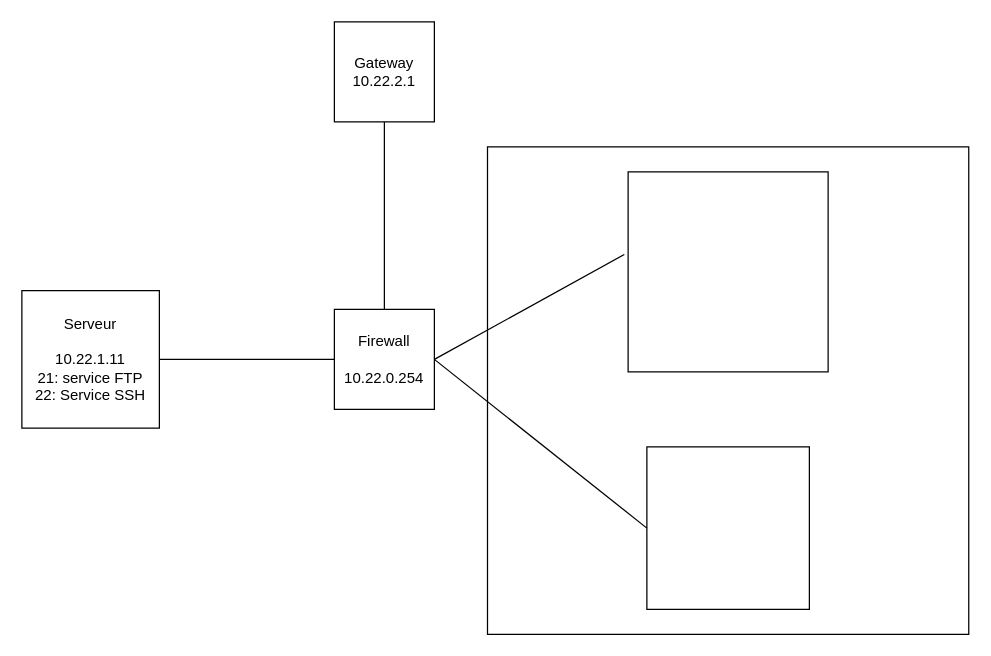
Image size: 991x656. Some labels were removed from this diagram. Here are the shapes that lost their labels. From the top down, the box of each, then its label:
(627, 171, 828, 372): Alice 10.22.0.11
(646, 446, 809, 609): Kali 10.22.0.12
